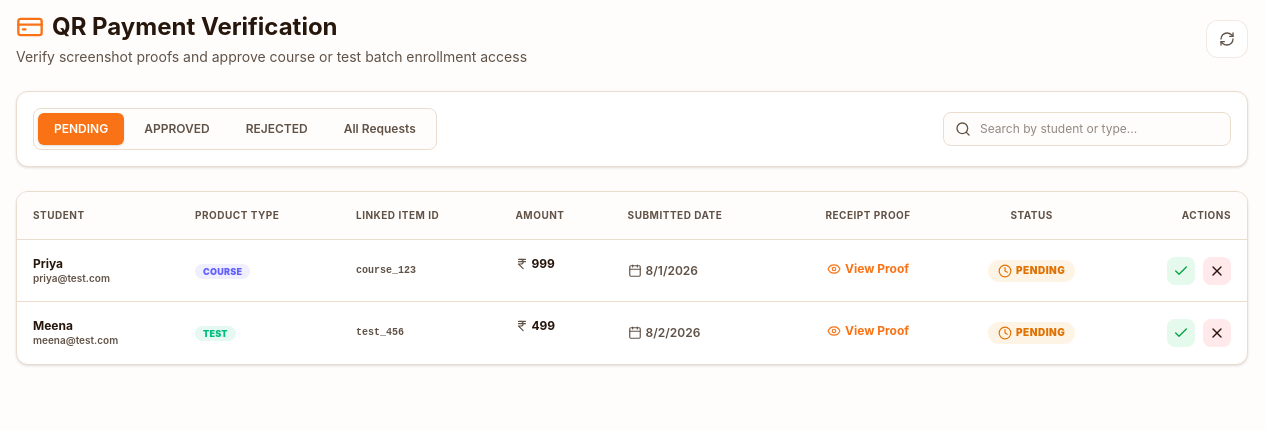
it: PaymentRequestsPage › shows the empty state when no requests match
This screenshot has width=1265, height=430.
Type "zzzz" into the field with placeholder "Search by student or type...". click: (1087, 129)
box: [943,112,1231,146]
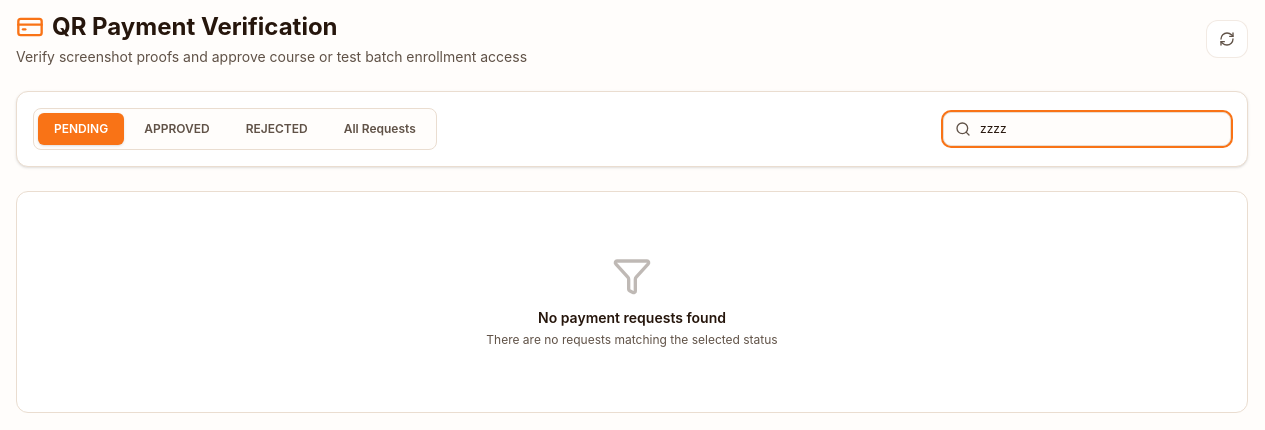
Check: the text "No payment requests found" is shown, box [538,308,726,328]
Check: the text "There are no requests matching the selected status" is shown, box [486,332,778,348]
